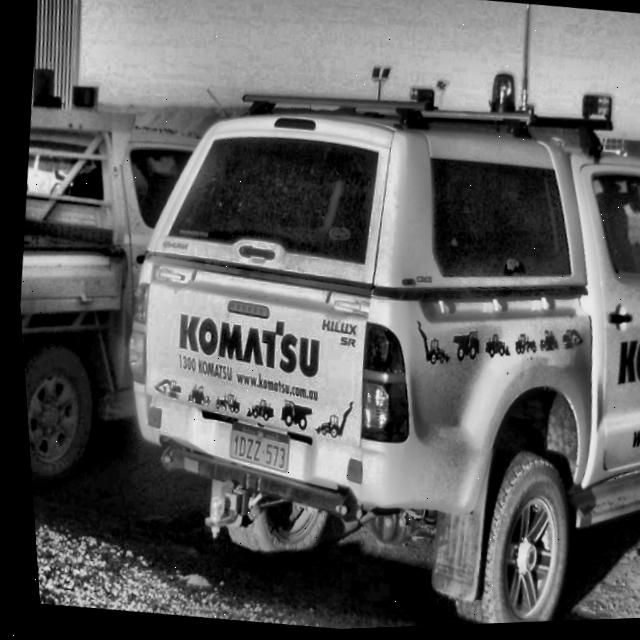light_vehicle: (71, 46, 640, 638)
